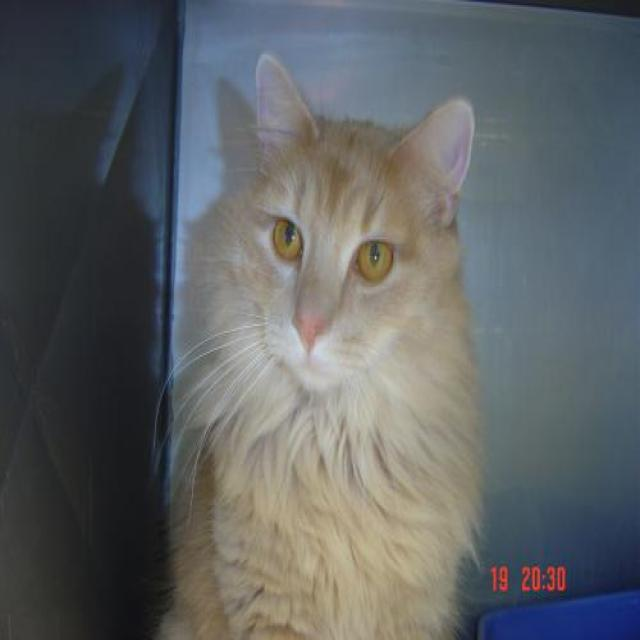Cats: (148, 49, 486, 638)
